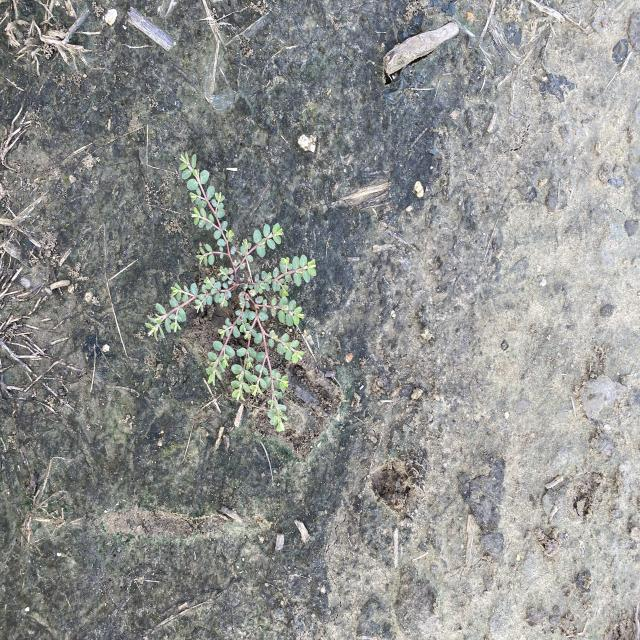SpottedSpurge: (144, 150, 318, 434)
